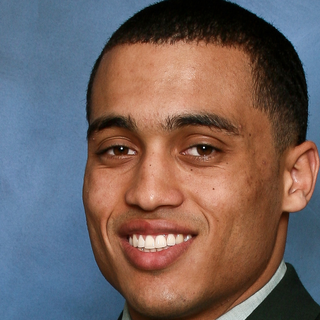eye: (179, 138, 228, 164), (97, 139, 141, 164)
